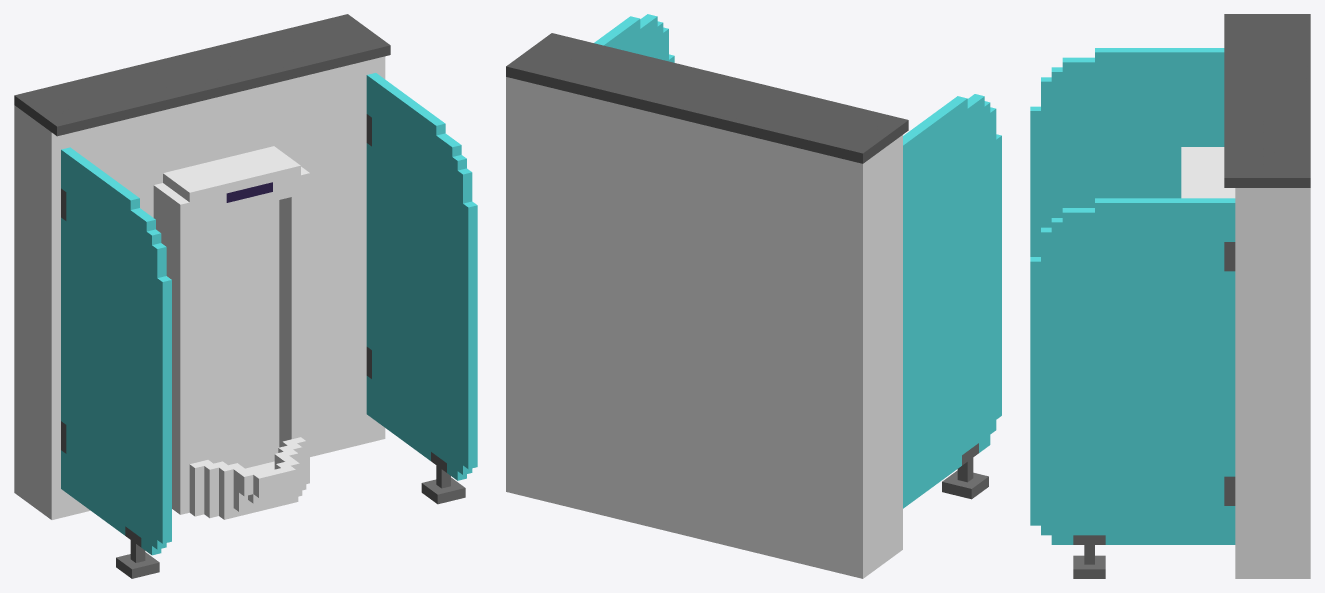
Rendered from Toilet1-1.fbx.
3 renders of one model, left to right at view 1: azimuth 30°, elevation 25°; view 2: azimuth 150°, elevation 25°; view 3: azimuth 270°, elevation 25°, orthographic. The views are drawn at different scales.
Visible parts, largest first — view 1: Toilet1-1.002, Toilet1-1, Toilet1-1.001; view 2: Toilet1-1.002, Toilet1-1.001, Toilet1-1; view 3: Toilet1-1, Toilet1-1.002, Toilet1-1.001.
Boxes of the visible parts, x1,y1,x2,y2 form: Toilet1-1.002: (14, 14, 390, 519); Toilet1-1: (366, 73, 477, 504); Toilet1-1.001: (61, 147, 171, 578); Toilet1-1.002: (506, 33, 908, 578); Toilet1-1.001: (903, 94, 1001, 508); Toilet1-1: (594, 14, 674, 62); Toilet1-1: (1030, 198, 1235, 578); Toilet1-1.002: (1181, 14, 1310, 578); Toilet1-1.001: (1030, 48, 1224, 256).
Size of the model in its own units: 3.6 by 4.1 by 2.6.
